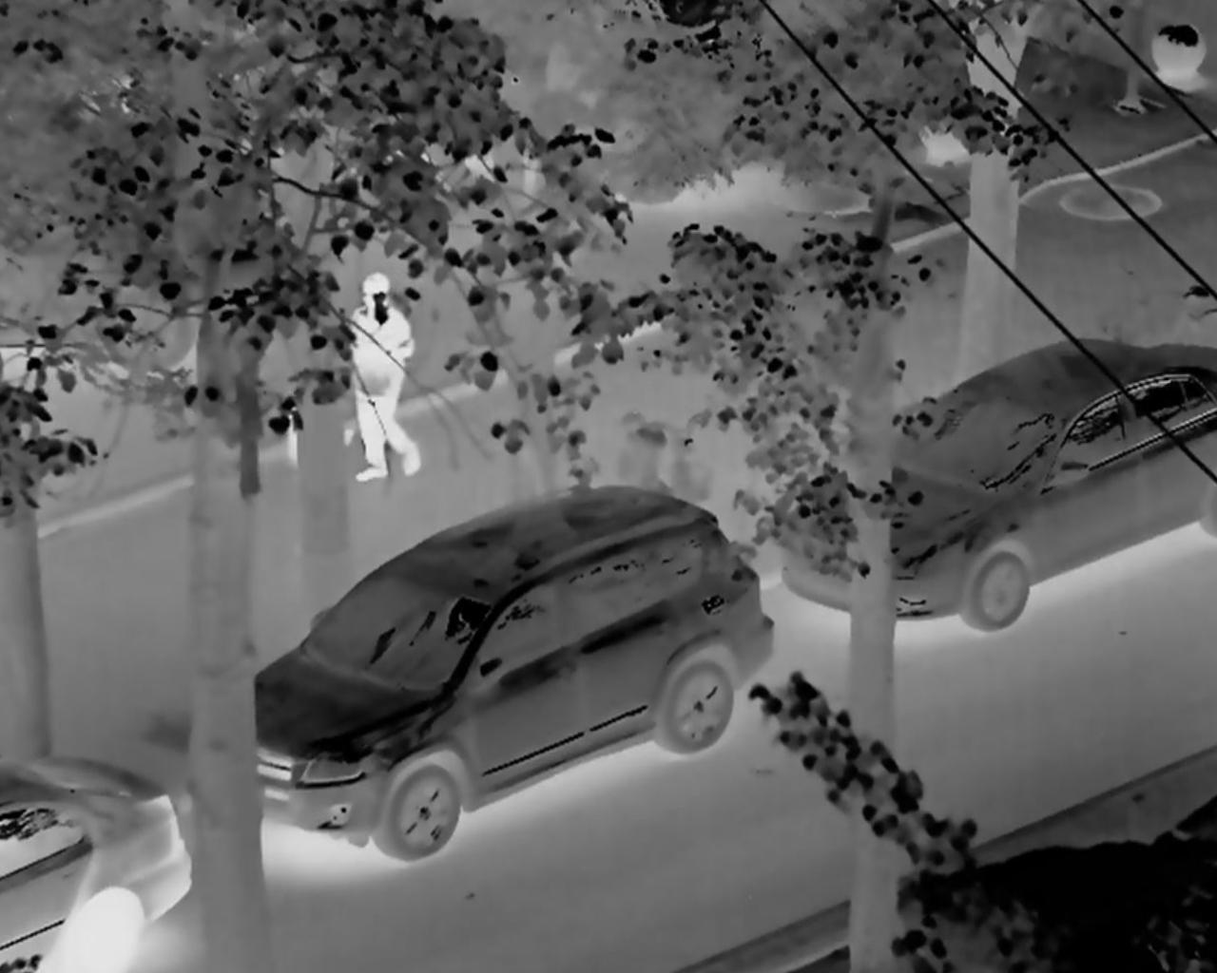person: (329, 261, 428, 491)
